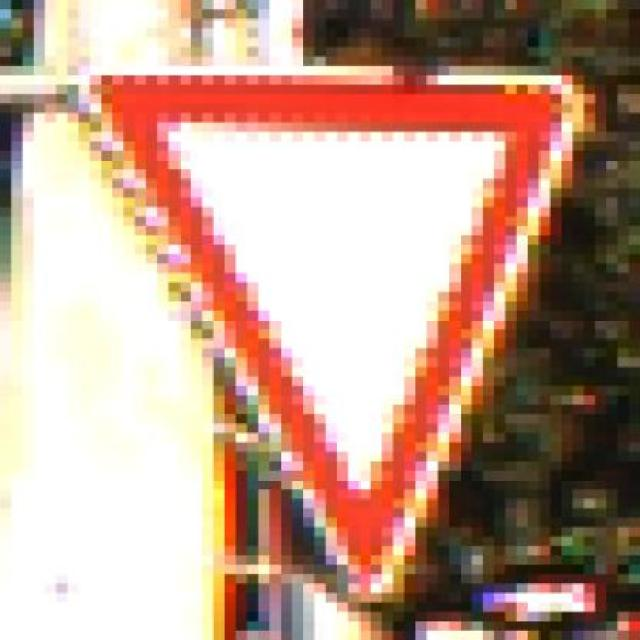Give Way: (56, 47, 607, 611)
